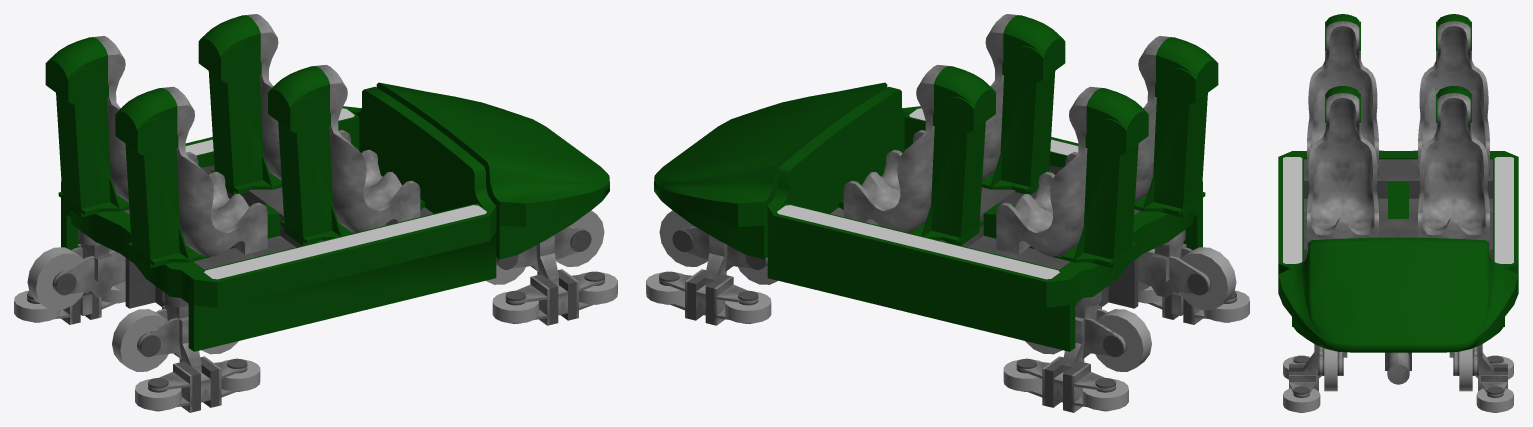
The model's file is front_car.obj.
3 views of the same model, side by side, from view 1: azimuth 30°, elevation 25°; view 2: azimuth 150°, elevation 25°; view 3: azimuth 270°, elevation 25° (orthographic). The views are drawn at different scales.
Size of the model in its own units: 3.08 by 1.74 by 1.6.
